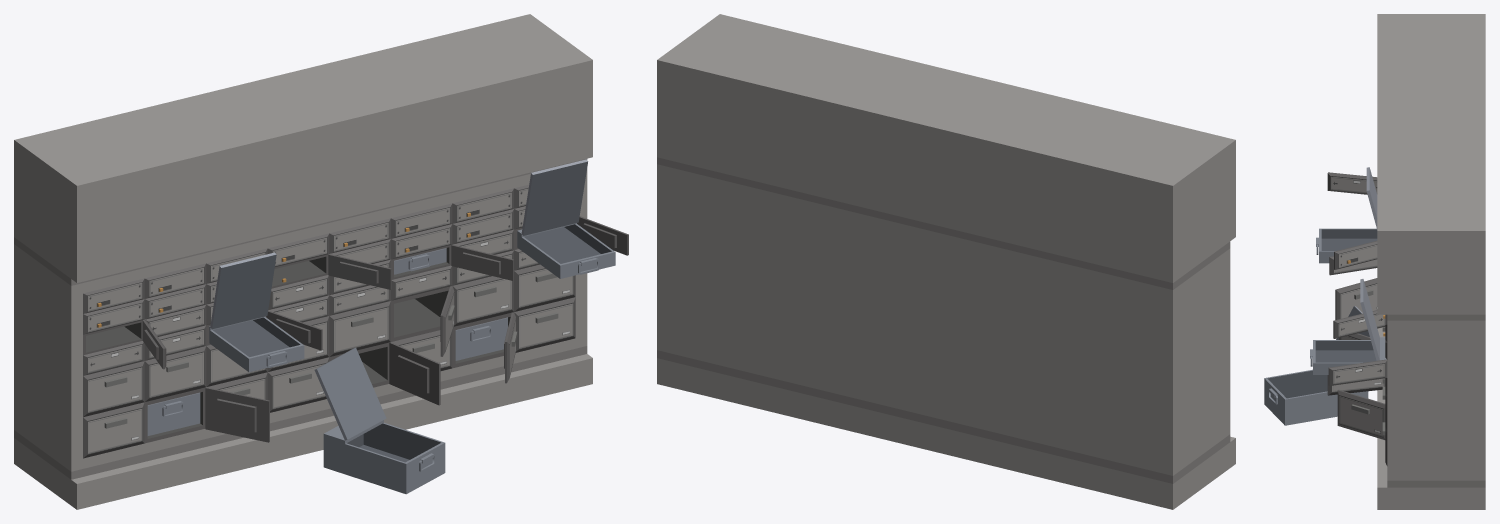
The model's file is Prop_SafeDepositBoxes_Looted_01.glb.
3 renders of one model, left to right at view 1: azimuth 30°, elevation 25°; view 2: azimuth 150°, elevation 25°; view 3: azimuth 270°, elevation 25°, orthographic. The views are drawn at different scales.
Parts seen in each view (by area): view 1: SM_Prop_SafeDepositBoxes_Looted_01; view 2: SM_Prop_SafeDepositBoxes_Looted_01; view 3: SM_Prop_SafeDepositBoxes_Looted_01.
Boxes of the visible parts, <box> form: SM_Prop_SafeDepositBoxes_Looted_01: <box>14,14,628,509</box>; SM_Prop_SafeDepositBoxes_Looted_01: <box>657,14,1235,509</box>; SM_Prop_SafeDepositBoxes_Looted_01: <box>1264,14,1485,509</box>.
Size of the model in its own units: 5.08 by 3.01 by 2.16.
1 material, 1 textured.
